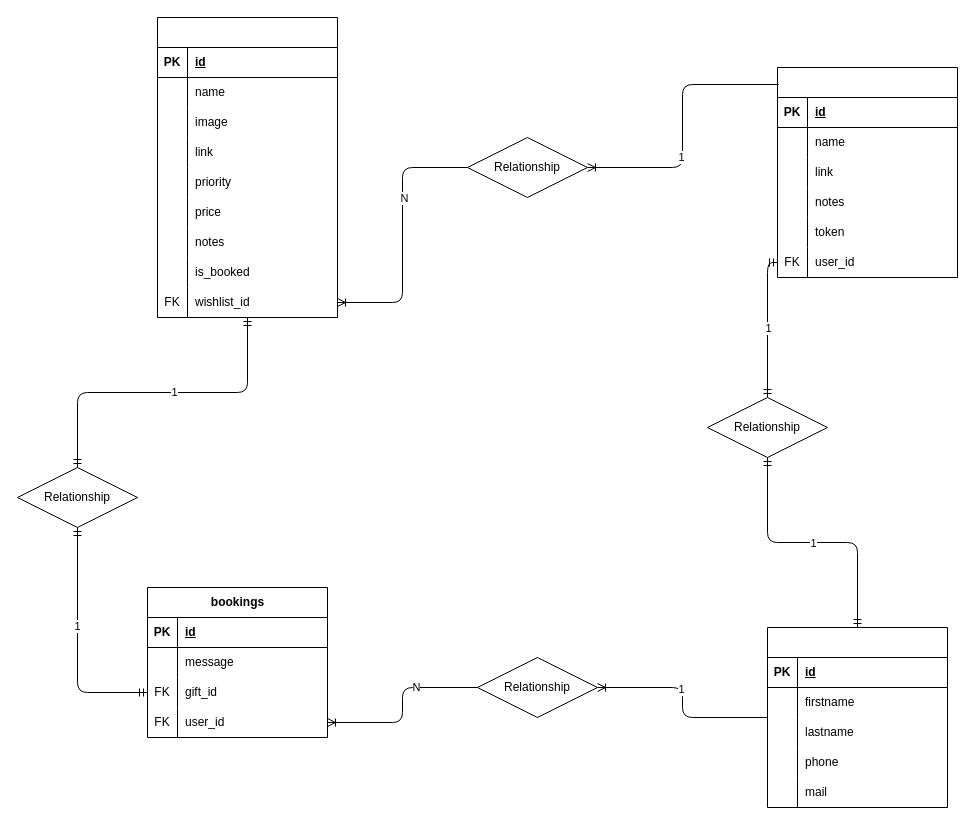
Image size: 975x825. Some labels were removed from this diagram. Each missing label, with the box of its shape:
gifts: (156, 16, 338, 318)
users: (766, 626, 948, 808)
wishlists: (776, 66, 958, 278)
